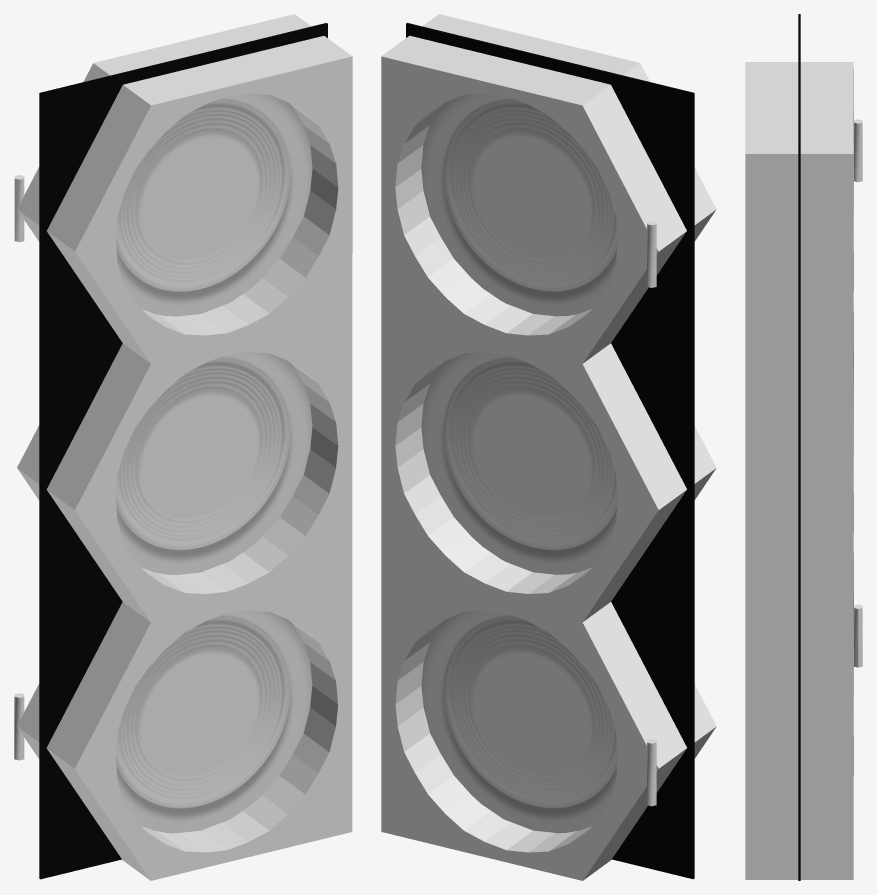
The model's file is Main Door Right.dae.
3 renders of one model, left to right at view 1: azimuth 30°, elevation 25°; view 2: azimuth 150°, elevation 25°; view 3: azimuth 270°, elevation 25°, orthographic. The views are drawn at different scales.
Visible parts, largest first — view 1: prim4, prim3, prim0, prim1, prim2; view 2: prim4, prim3, prim1, prim0, prim2, prim5, prim6; view 3: prim4, prim3, prim5, prim6.
Boxes of the visible parts, x1,y1,x2,y2 form: prim4: [17, 14, 352, 880]; prim3: [39, 23, 327, 879]; prim0: [116, 93, 312, 316]; prim1: [116, 352, 312, 574]; prim2: [116, 610, 312, 833]; prim4: [381, 14, 716, 880]; prim3: [406, 23, 694, 879]; prim1: [421, 352, 617, 574]; prim0: [421, 93, 617, 316]; prim2: [421, 610, 617, 833]; prim5: [647, 739, 656, 806]; prim6: [647, 220, 656, 287]; prim4: [745, 62, 853, 879]; prim3: [798, 14, 800, 880]; prim5: [854, 604, 862, 667]; prim6: [854, 119, 862, 182].
Bounding box in the file's own units: 1.34 × 0.5069 × 3.5.
4 materials, 3 textured.
